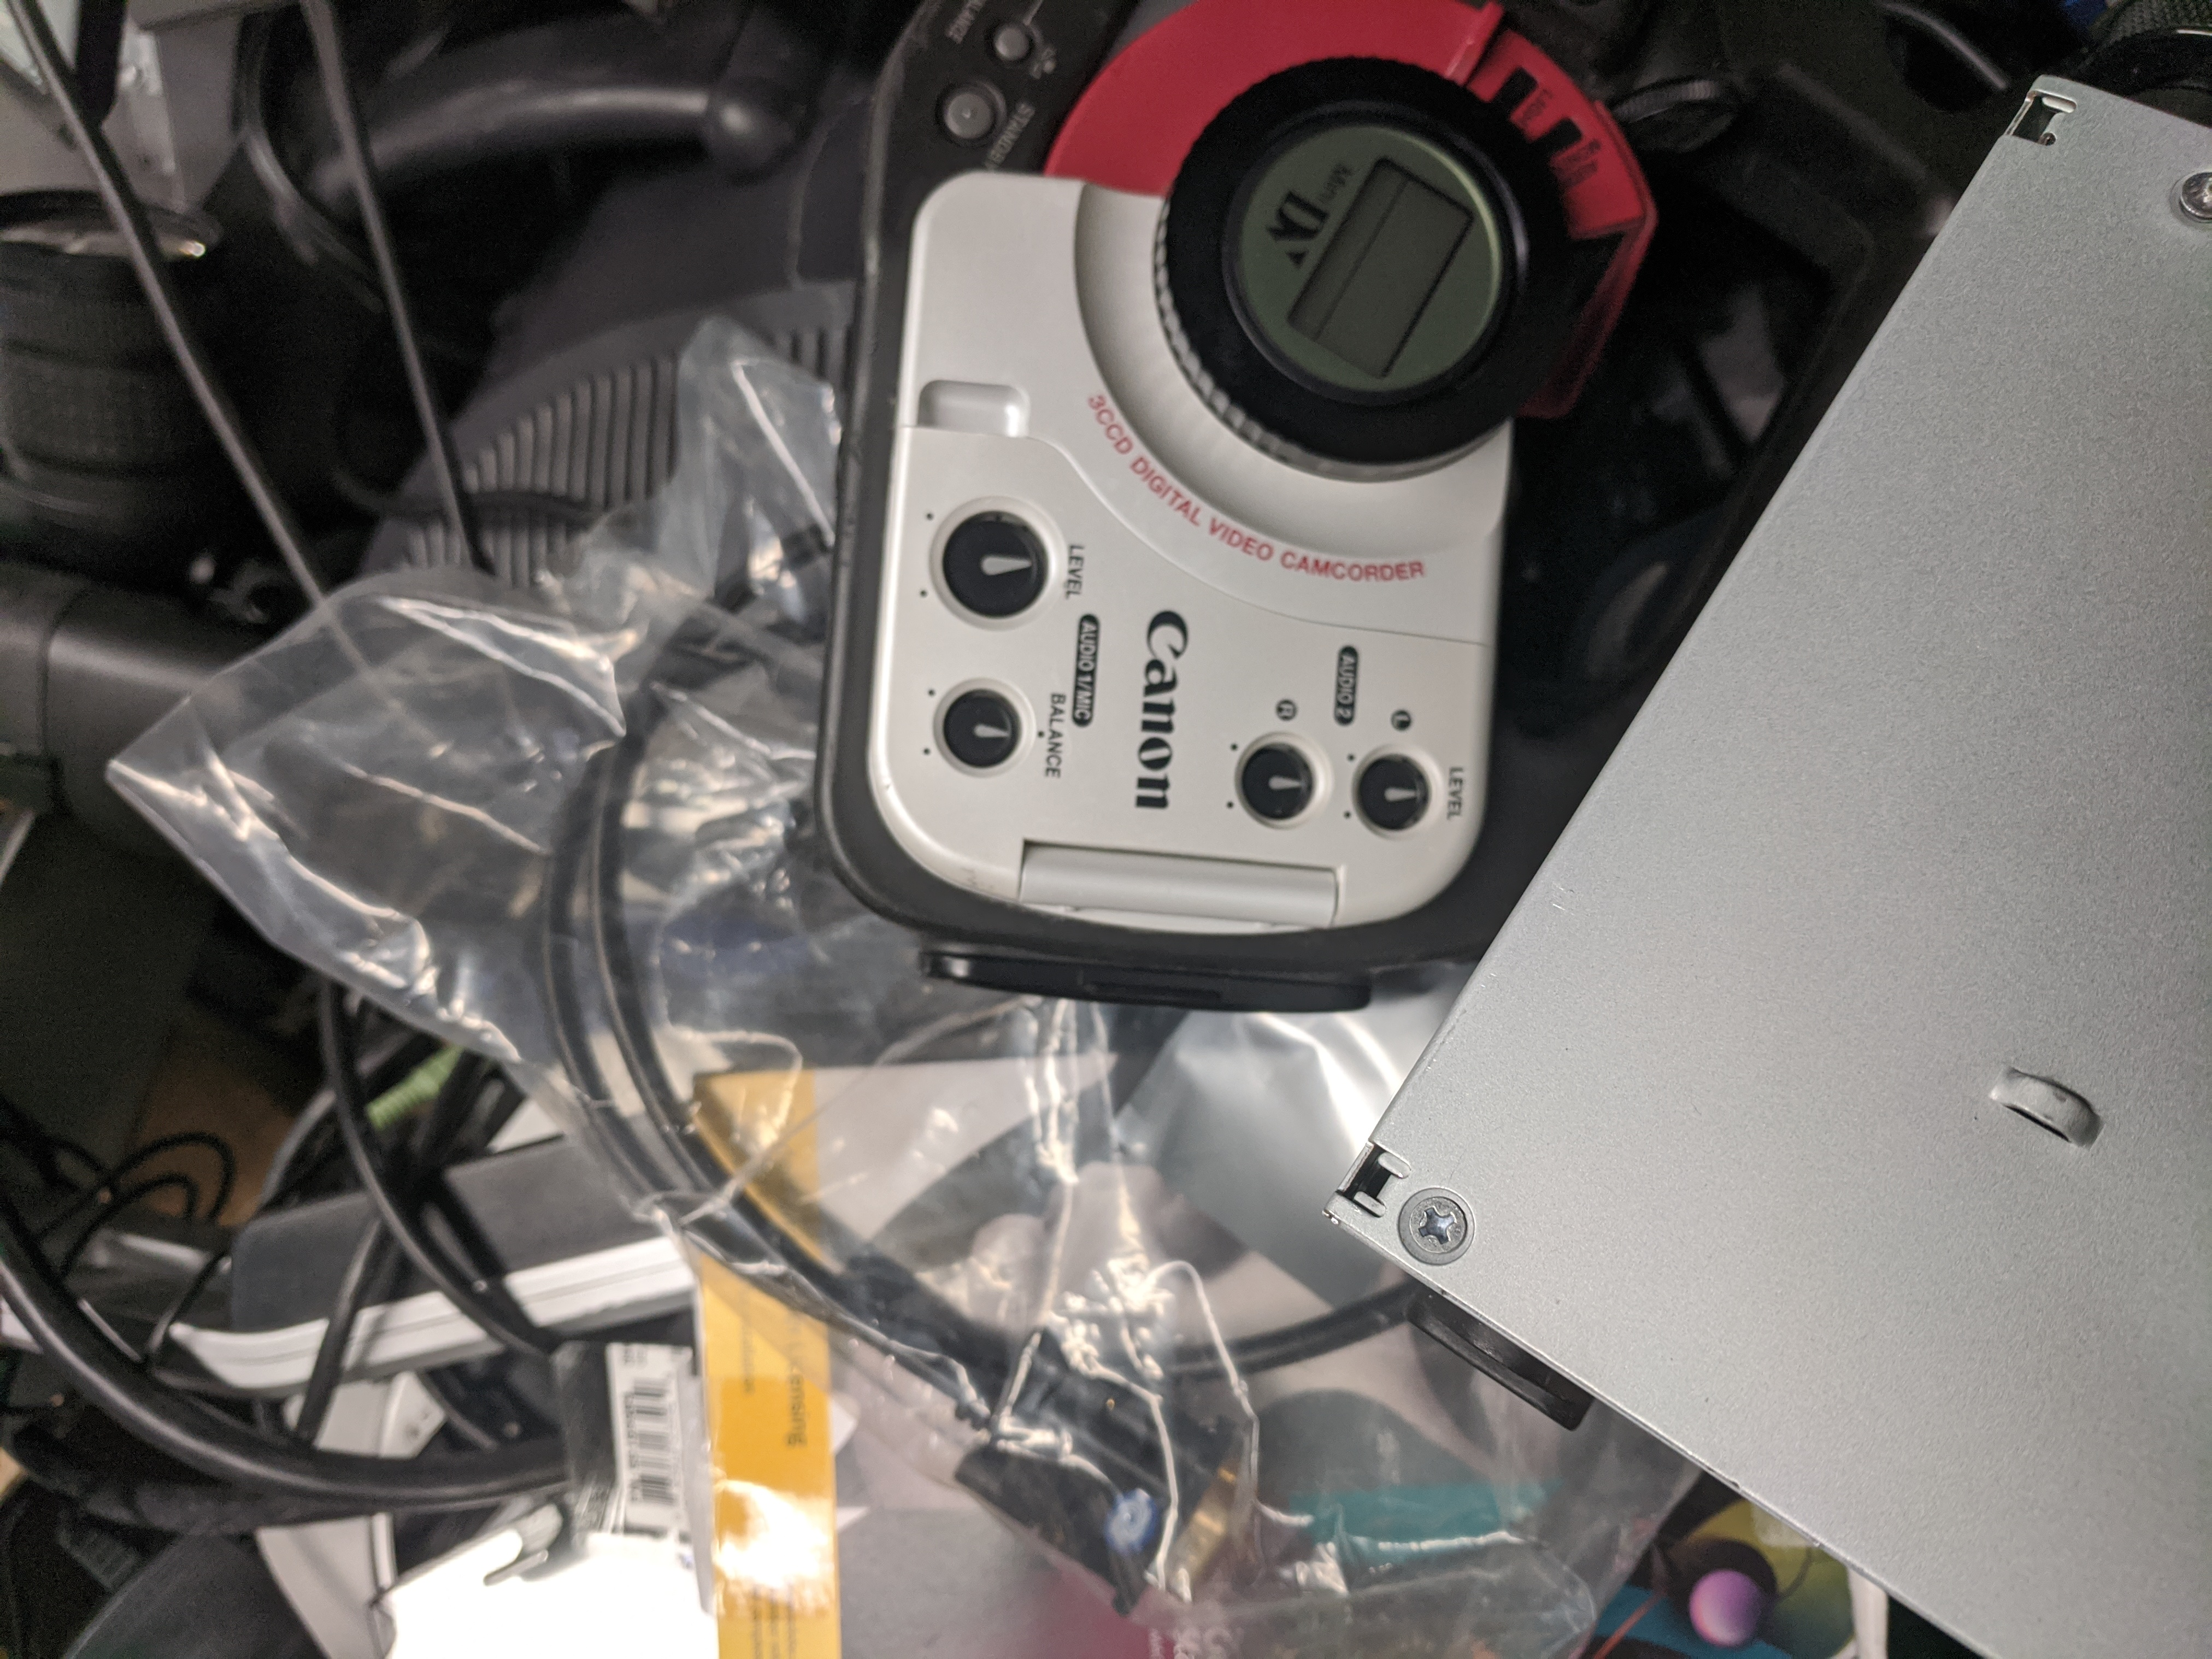cross_recessed_screw: (1390, 1176, 1470, 1263)
